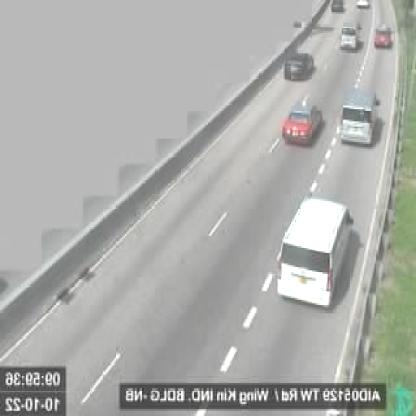Car: (275, 195, 353, 311), (338, 92, 380, 146), (282, 98, 324, 146), (284, 51, 314, 80), (338, 22, 358, 52), (373, 24, 391, 50), (332, 1, 343, 12), (357, 1, 369, 10)
